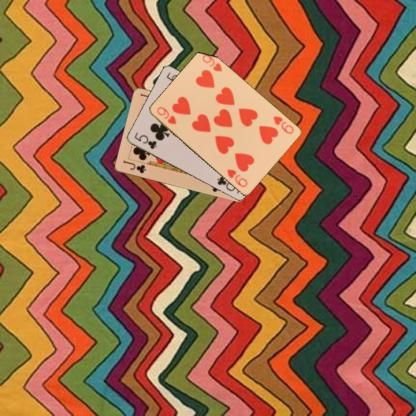5c: (131, 130, 158, 150)
9h: (270, 113, 295, 135), (154, 104, 178, 125)
Jc: (120, 158, 147, 174)
